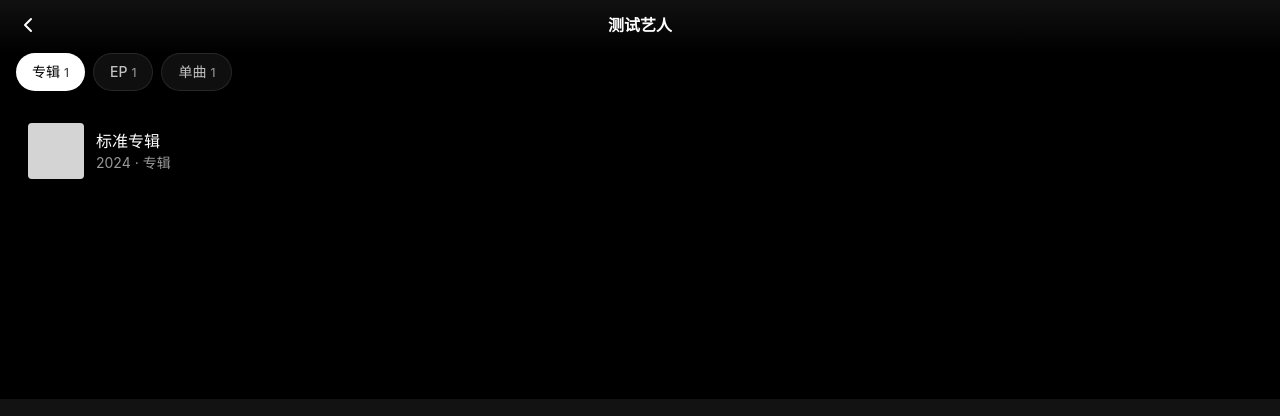
Test case: MobileArtistDiscographyPage › filters discography by album, ep, and single chips
Expected: the text "标准专辑" is shown, [96,131,160,151]
Expected: the text "城市漫游" is not shown
Step 1. Click the button "EP1" → (123, 72), box [93,53,153,91]
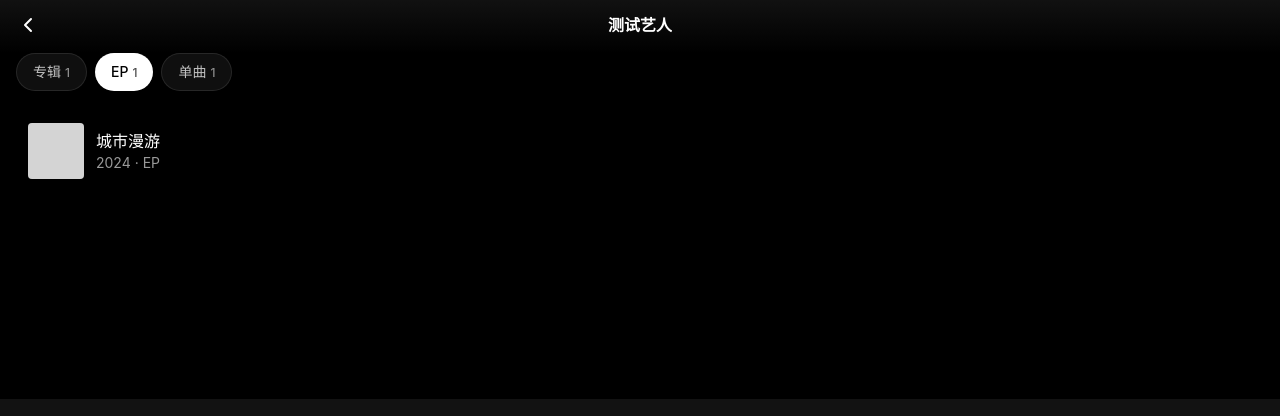
Expected: the text "夜行 - Single" is not shown
Now the text "城市漫游" is shown, box [96,131,160,151]
Now the text "标准专辑" is gone
Step 2. Click the button "单曲1" → (197, 72), box [161,53,232,91]
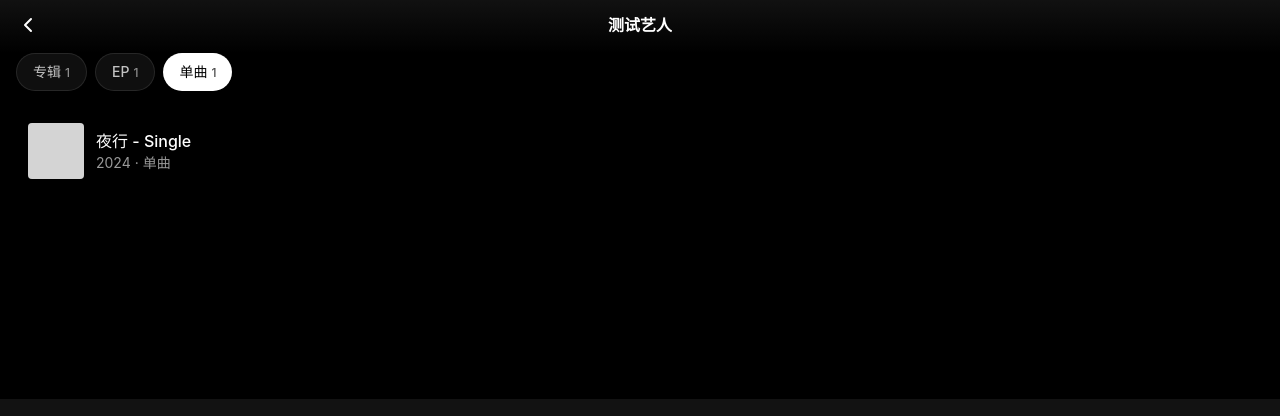
Expected: the text "标准专辑" is not shown
Now the text "夜行 - Single" is shown, box [96,131,191,151]
Now the text "城市漫游" is gone
